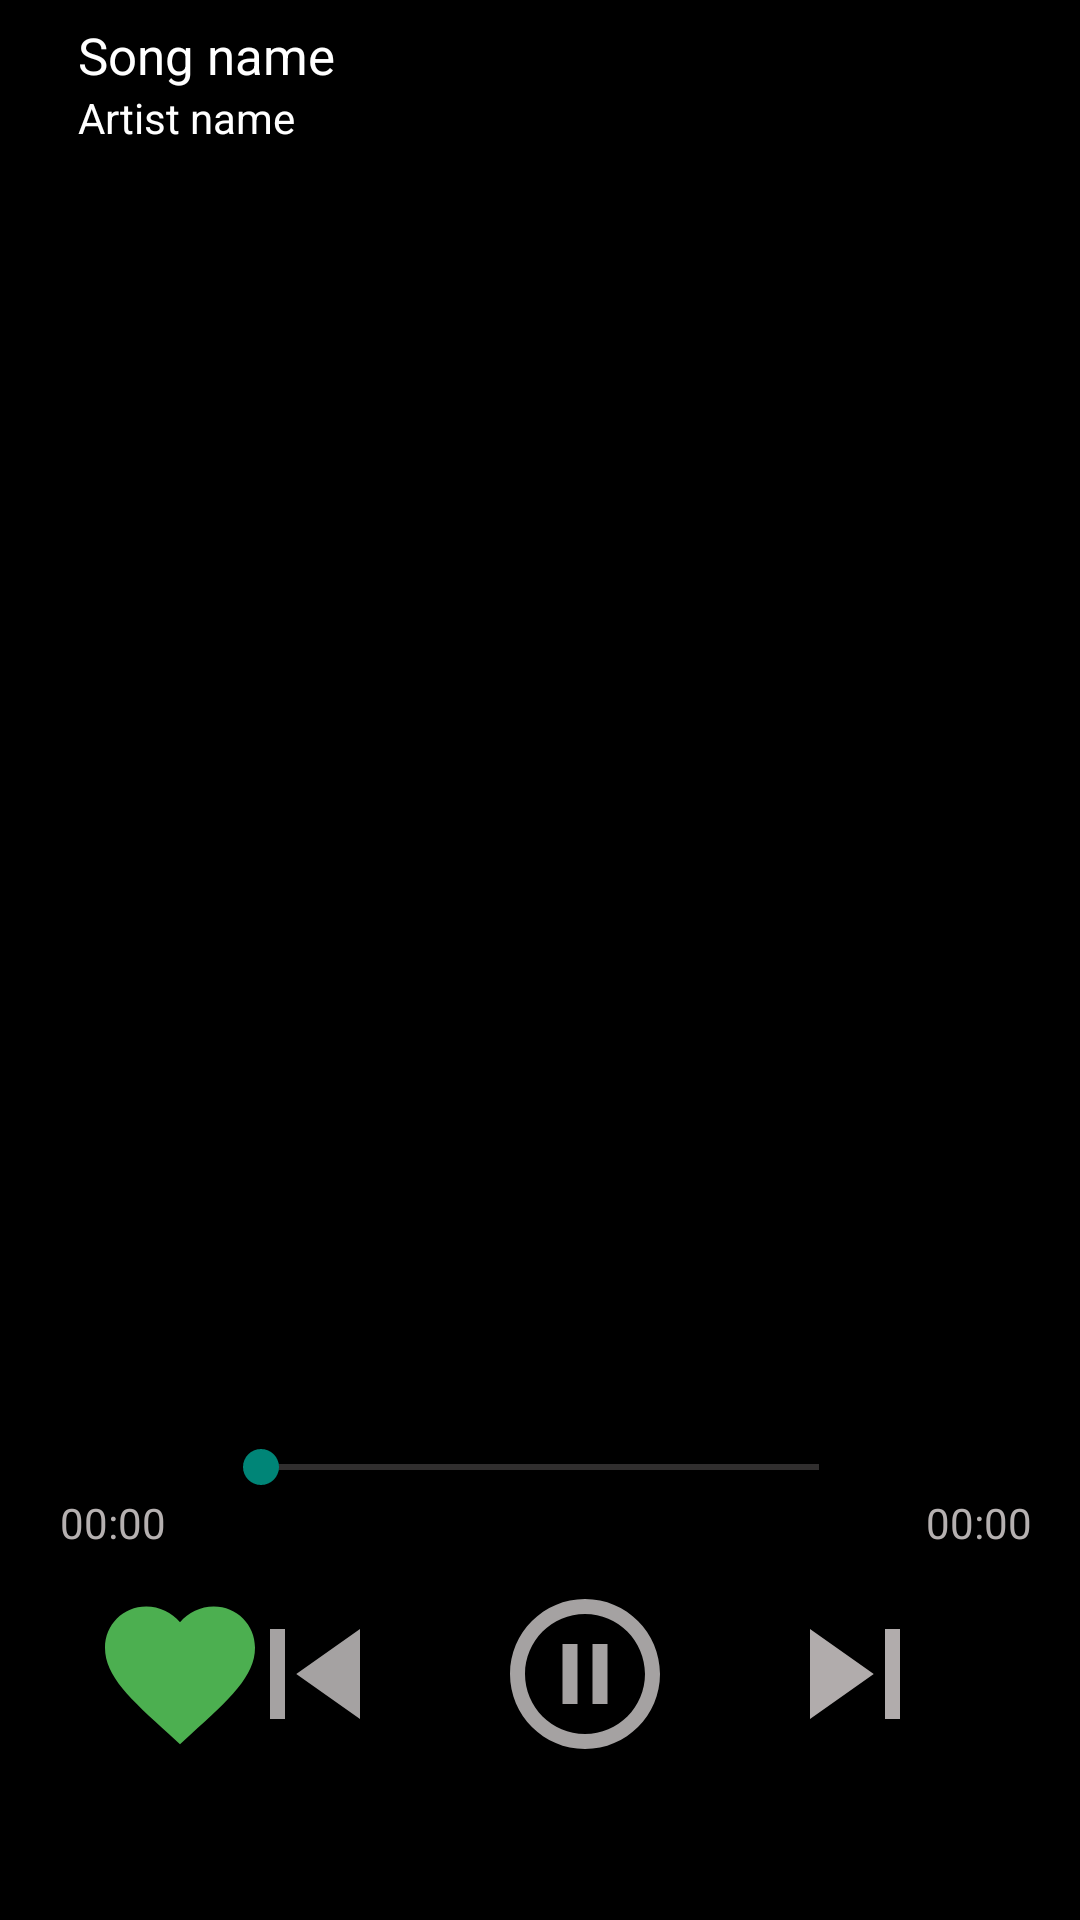

Point at icon controls on the screen. Image size 1080*1920, points as (x,y).
favorite: (180,1675)
next: (855,1674)
pre: (315,1674)
